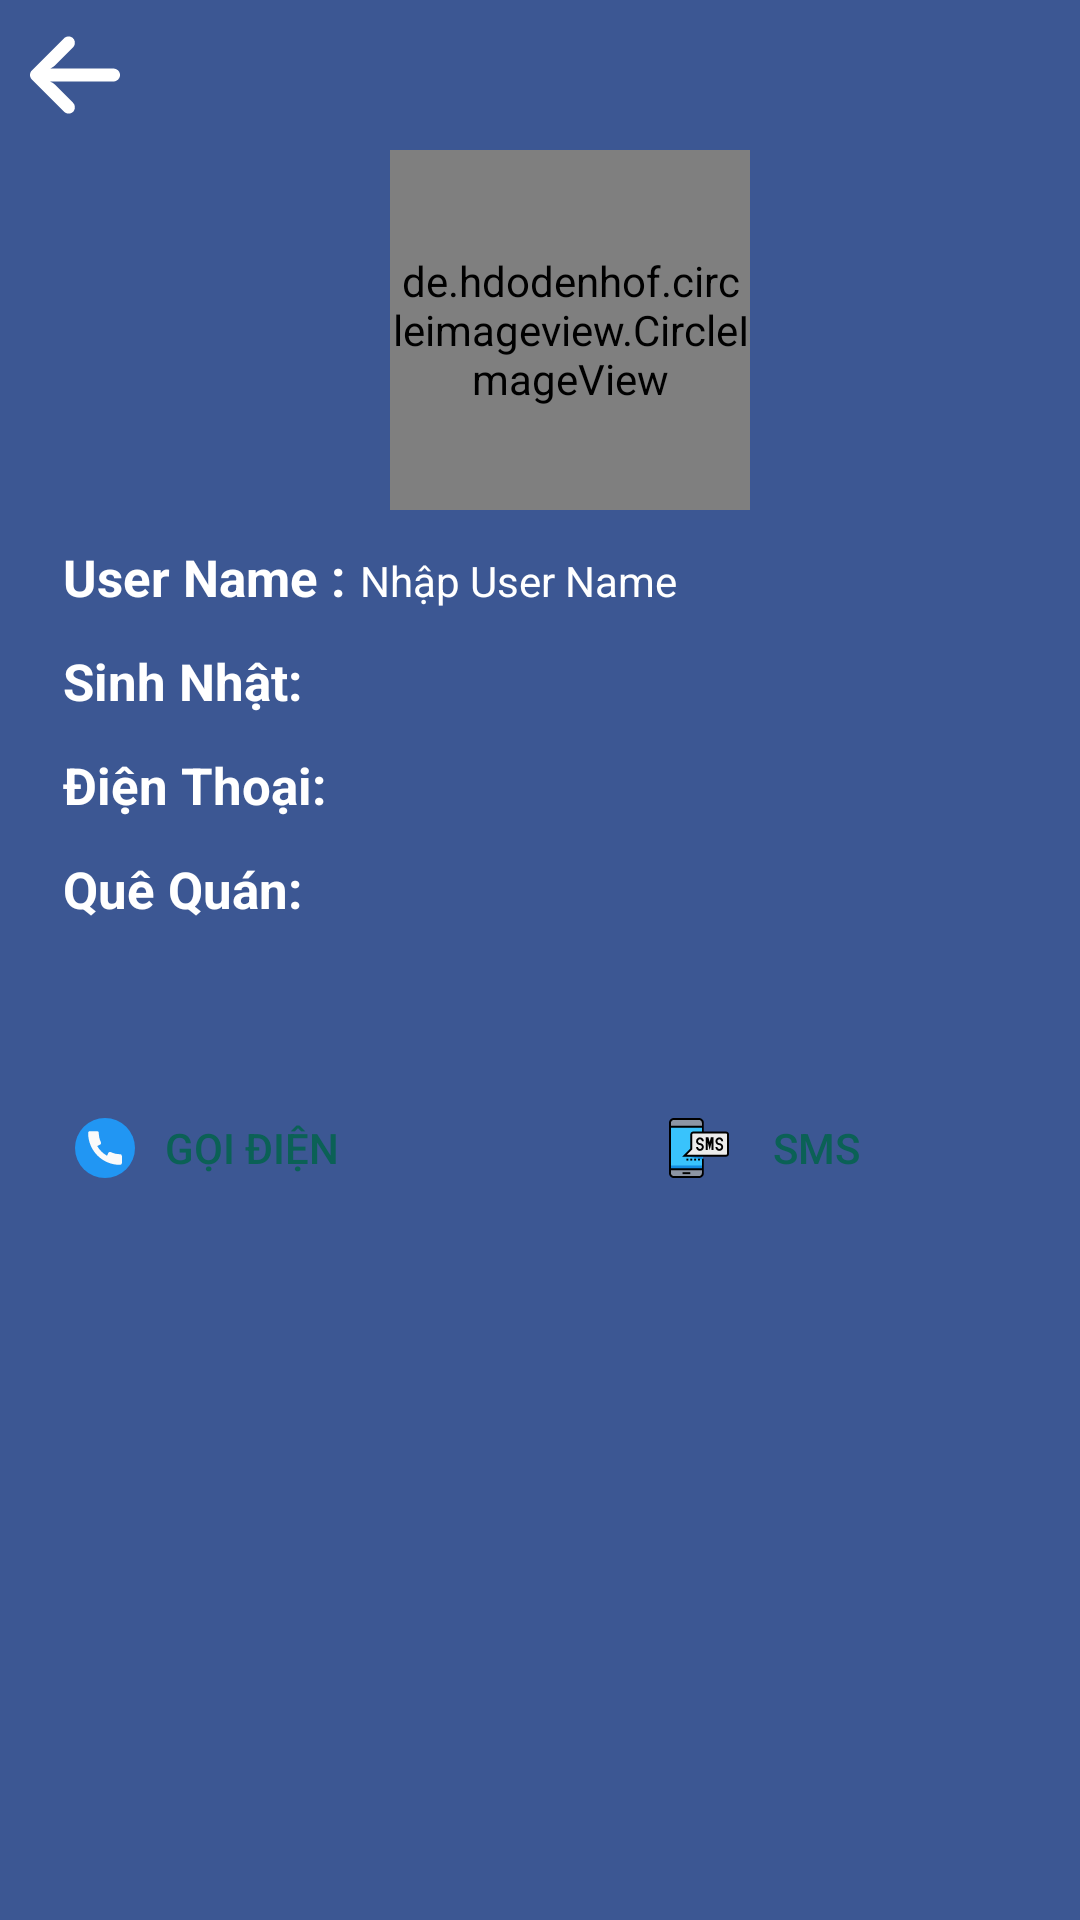

Locate icon controls on the screen. Image size 1080×1920, boxes as (x1, y1, x2, y2).
arrow: (30, 36, 120, 114)
